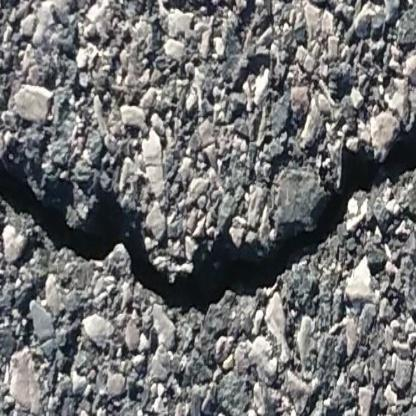Cracks: (0, 104, 416, 316)
